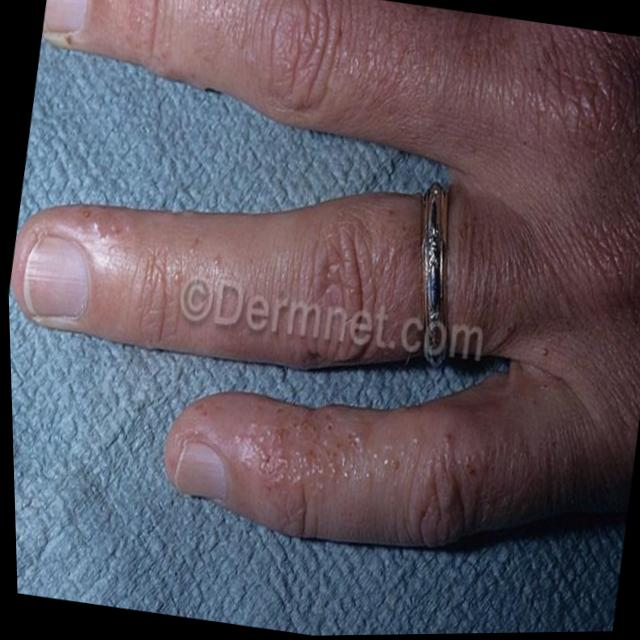Eczema: (242, 394, 411, 520), (73, 201, 118, 249)
